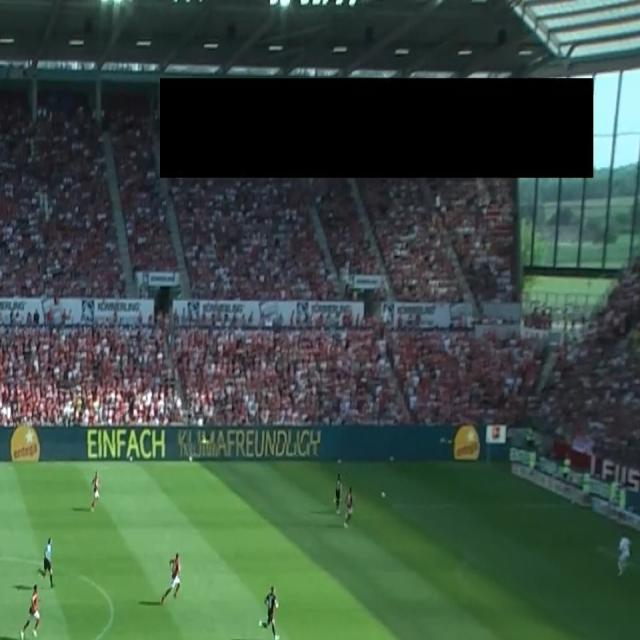ball: (381, 490, 386, 499)
